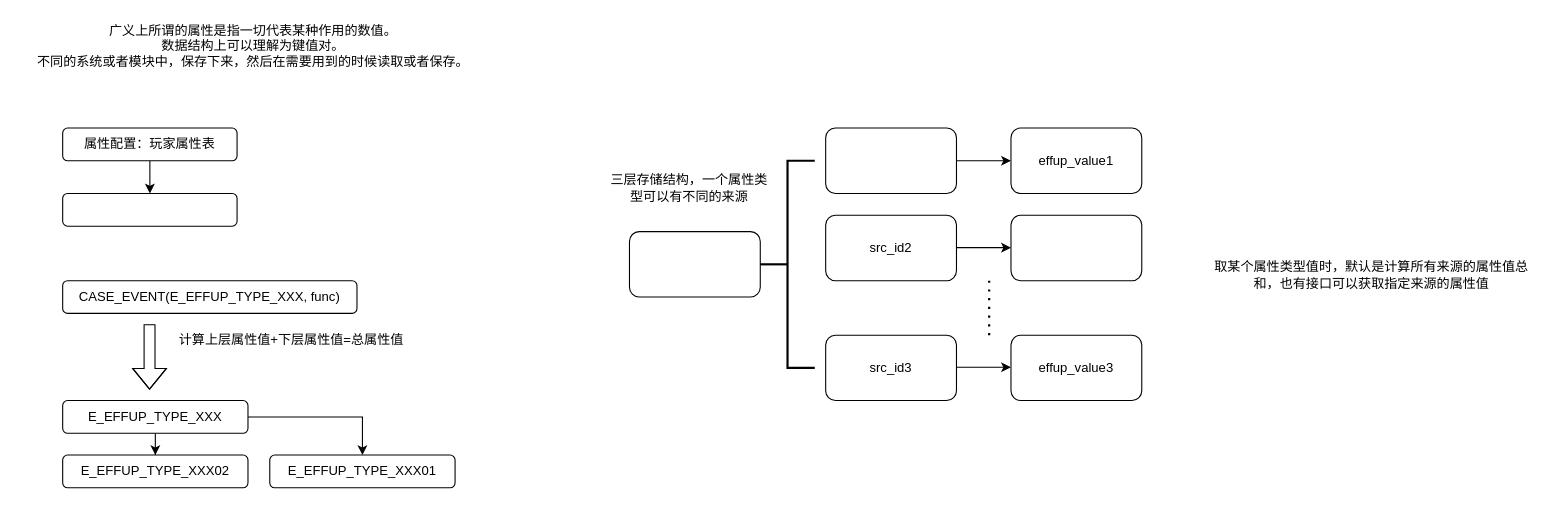
The diagram is 1553 pixels wide and 507 high, and some of its shapes have lost their labels. Each missing label, with the centre of its shape:
"effup_type" goes at (x=694, y=264).
"effup_value2" goes at (x=1076, y=247).
"src_id1" goes at (x=890, y=160).
"属性的常规配置是分为上层总属性类型和下层的子属性类型" goes at (x=149, y=209).
